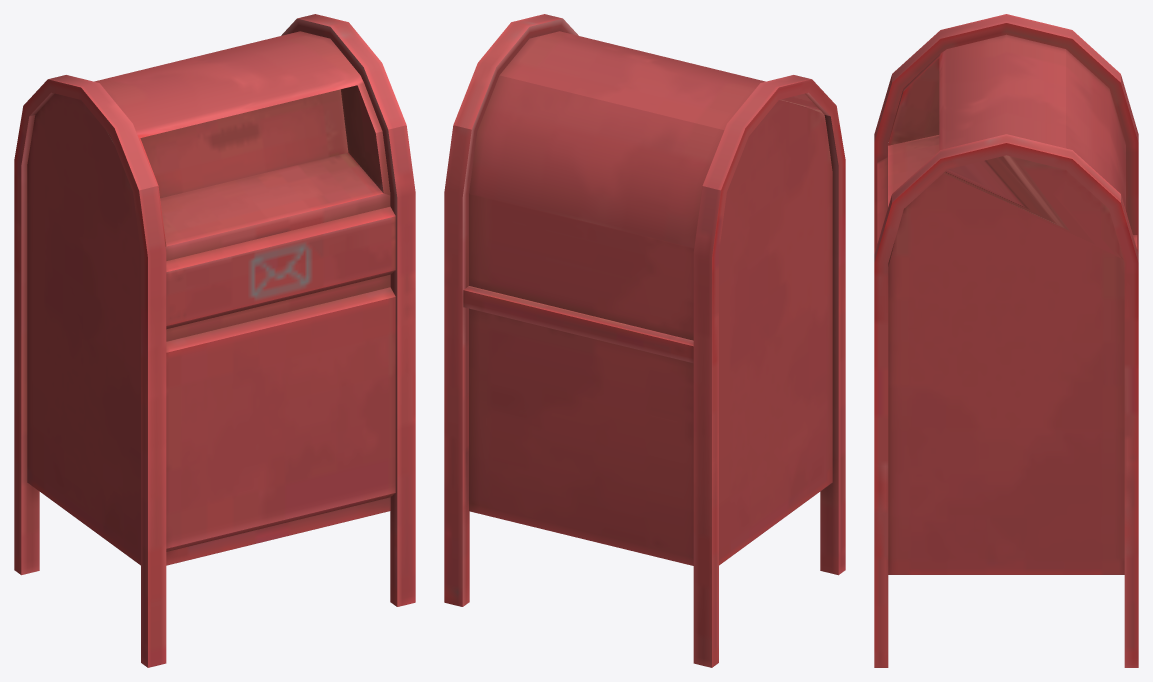
Rendered from Metal_Mailbox.fbx.
The picture shows the model from 3 angles, left to right: view 1: azimuth 30°, elevation 25°; view 2: azimuth 150°, elevation 25°; view 3: azimuth 270°, elevation 25°; orthographic projection.
Visible parts, largest first — view 1: SM_Metal_Mailbox; view 2: SM_Metal_Mailbox; view 3: SM_Metal_Mailbox.
Boxes of the visible parts, x1=… form: SM_Metal_Mailbox: x1=14, y1=14, x2=415, y2=667; SM_Metal_Mailbox: x1=444, y1=14, x2=845, y2=667; SM_Metal_Mailbox: x1=874, y1=14, x2=1138, y2=667.
Bounding box in the file's own units: 0.5574 × 1.06 × 0.4823.
